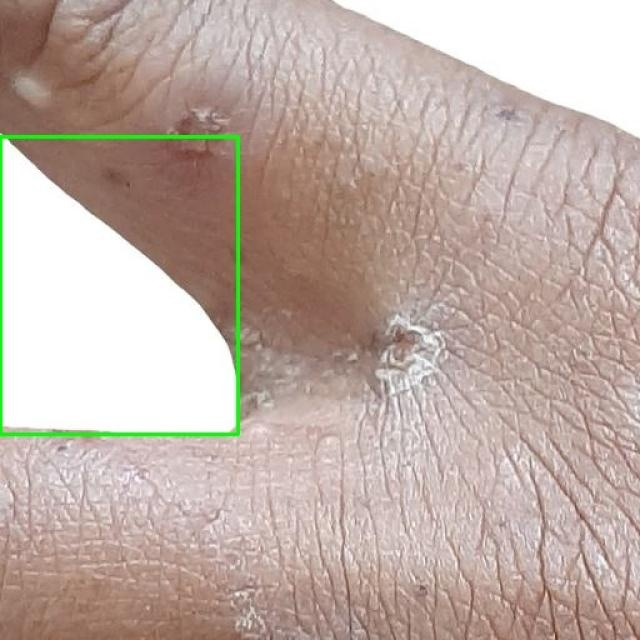Scabies: (0, 136, 238, 434)
